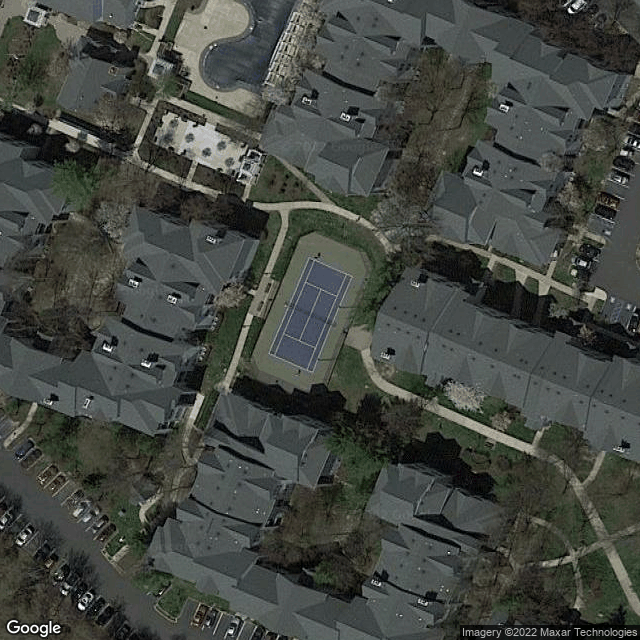Court: (267, 254, 355, 374)
